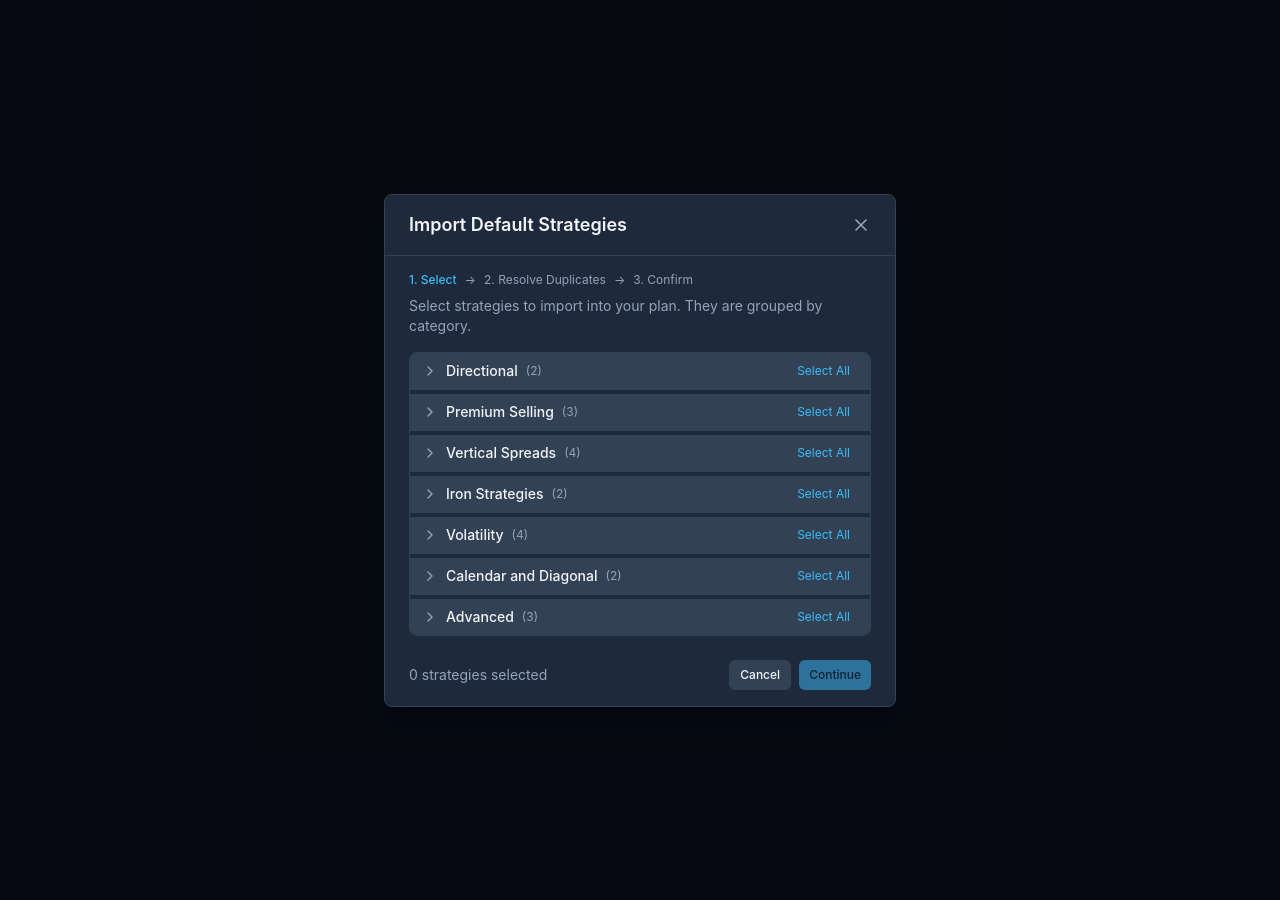
Scenario: StrategyImporter › multi-select and Select All per category › allows selecting multiple strategies across categories
// Expand and select from Directional
Step 1. Click the button with aria-label "Directional category" → coordinates (482, 370), box [422,360,781,380]
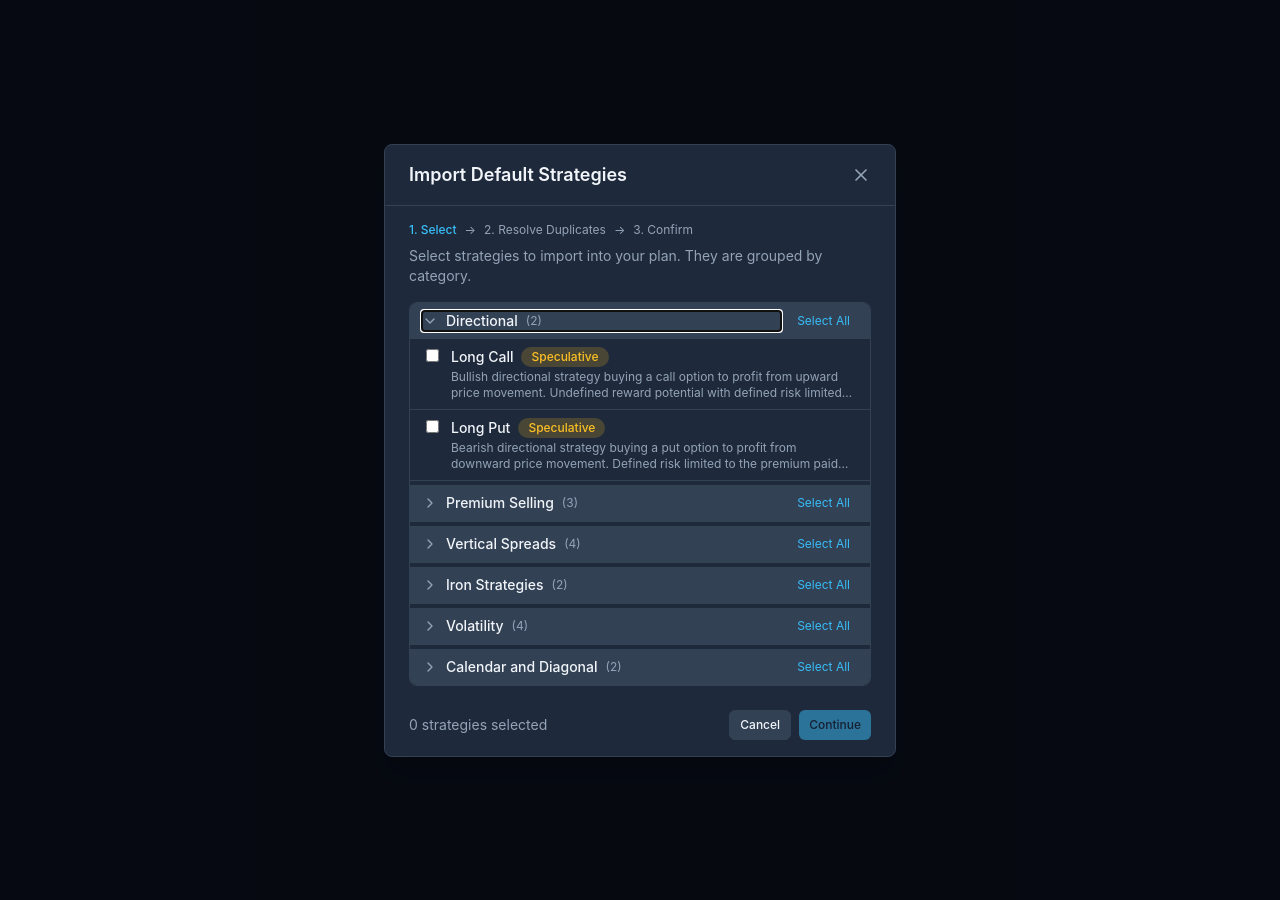
Step 2. Click the checkbox named "Select Long Call" → coordinates (432, 355), box [426,348,439,362]
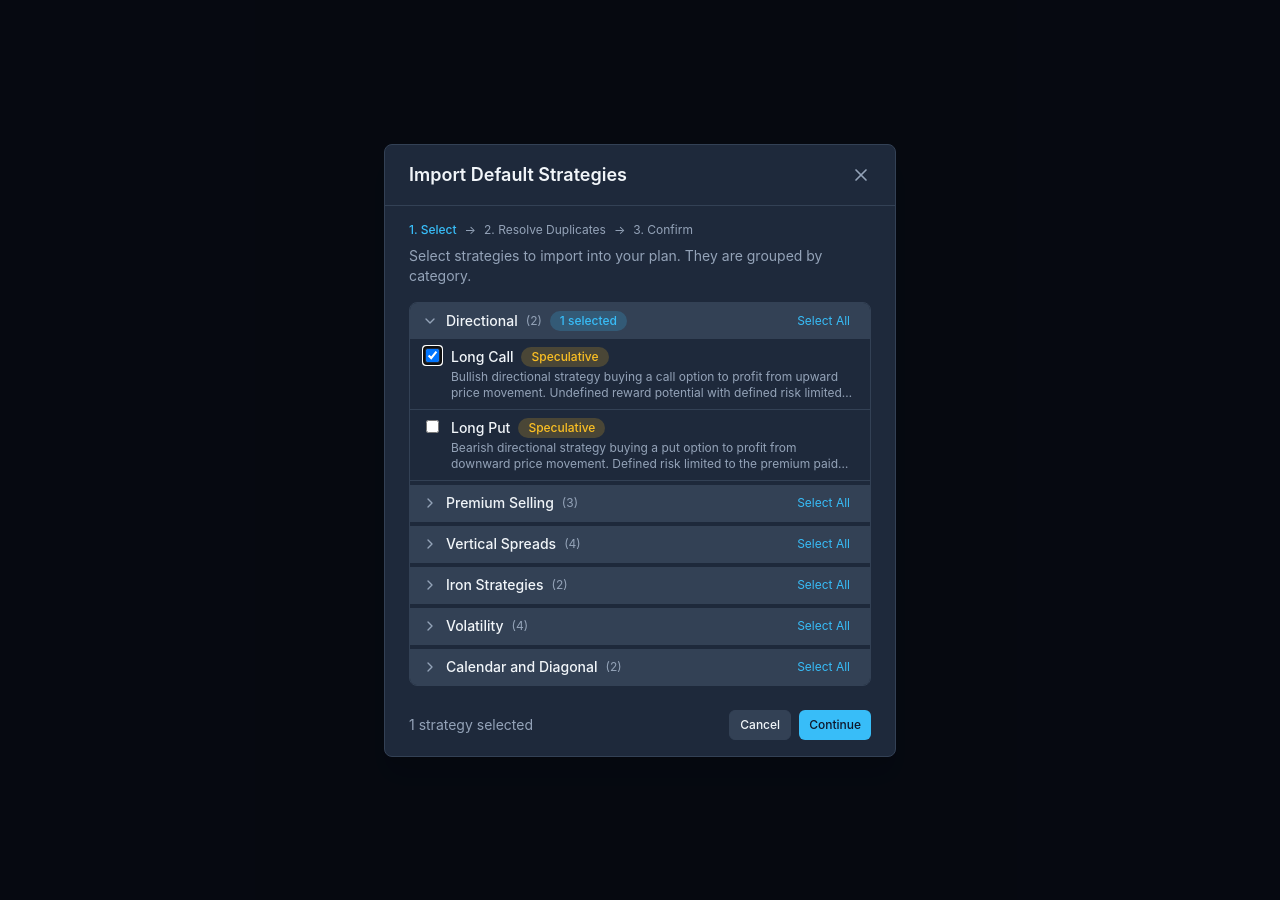
Step 3. Click the checkbox named "Select Long Put" → coordinates (432, 426), box [426,420,439,432]
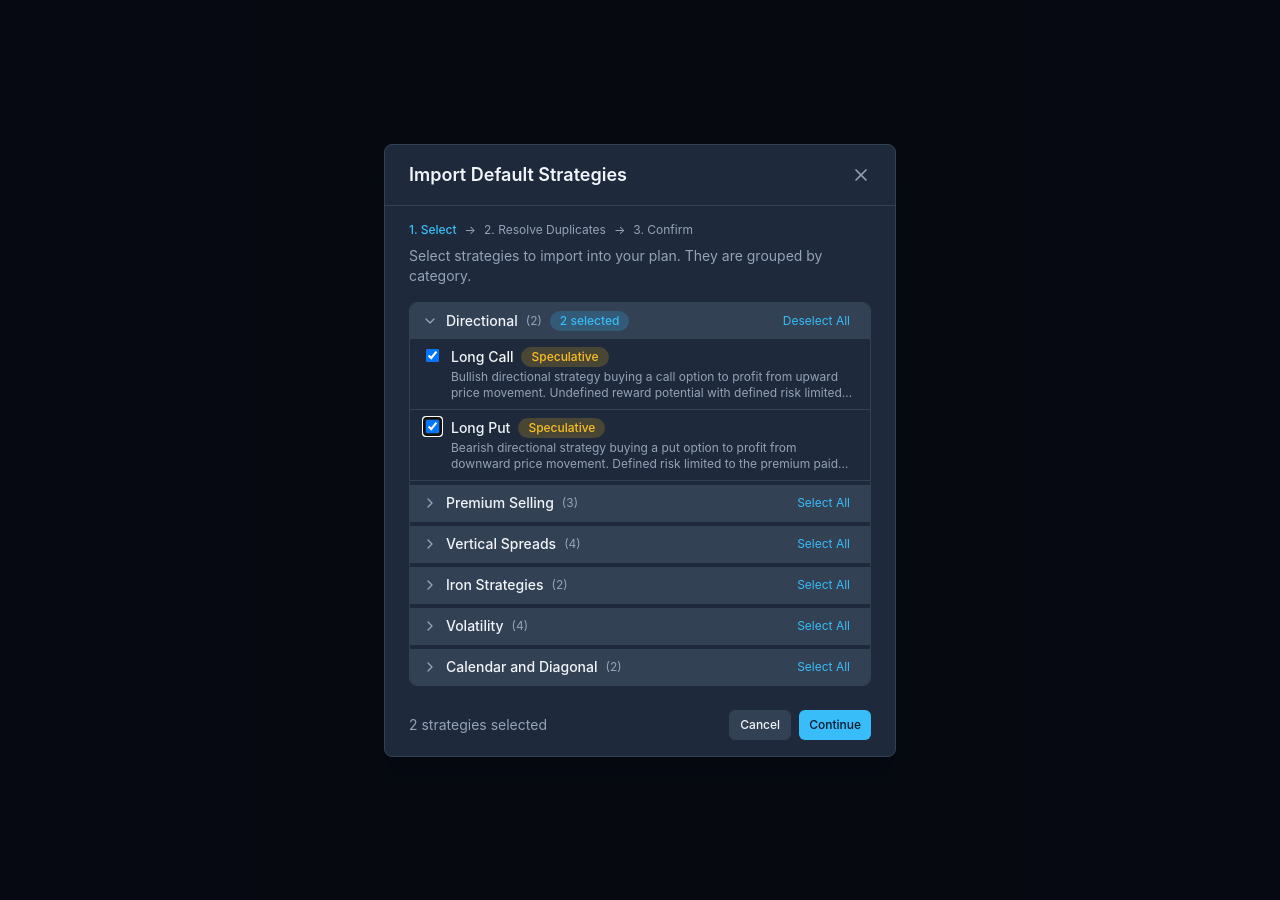
Result: the text "2 strategies selected" is shown at [409,714,547,734]
